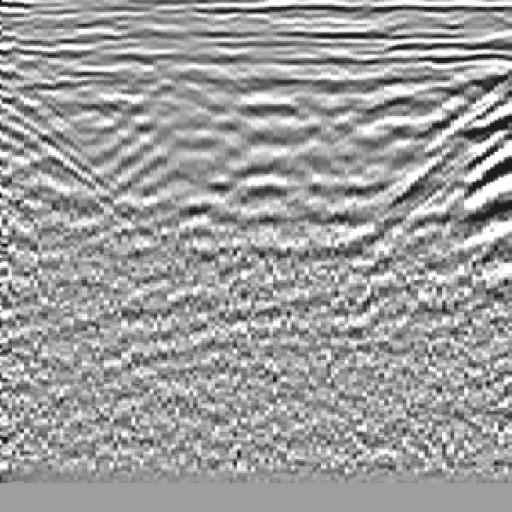metalic: (121, 45, 309, 280)
nonmetalic: (388, 46, 512, 278)
